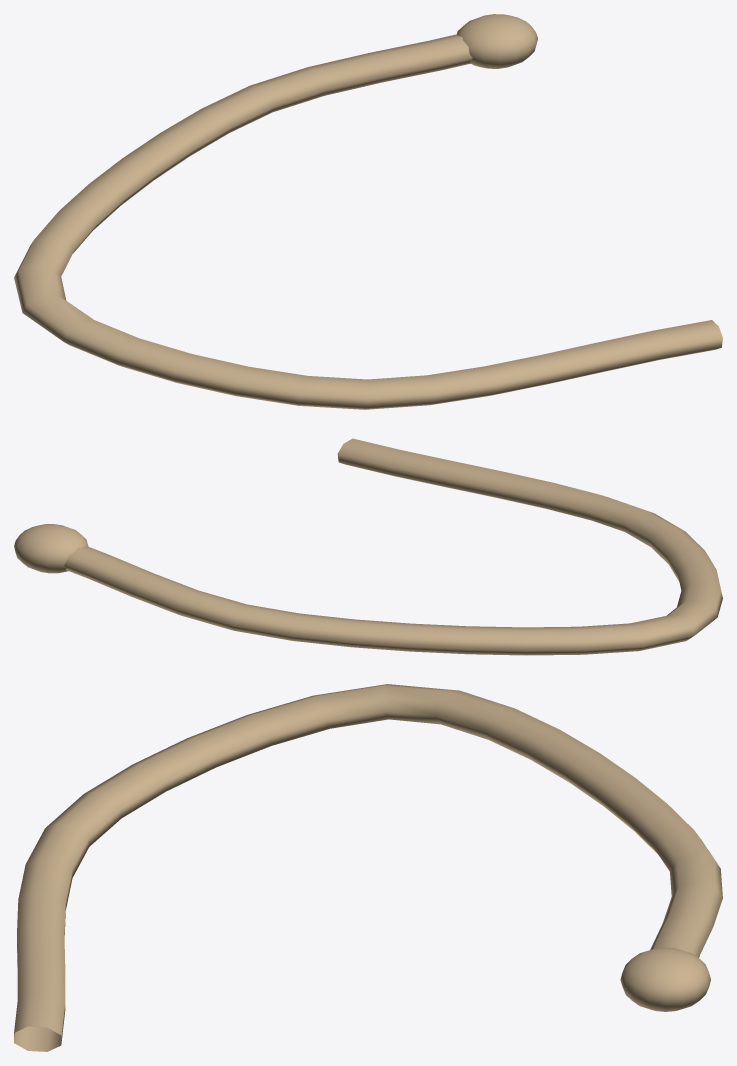
Rendered from right_rib_7.glb.
The picture shows the model from 3 angles, top to bottom: view 1: azimuth 30°, elevation 25°; view 2: azimuth 150°, elevation 25°; view 3: azimuth 270°, elevation 25°; orthographic projection. The views are drawn at different scales.
Parts seen in each view (by area): view 1: right_rib_7:costal-body, right_rib_7:head; view 2: right_rib_7:costal-body, right_rib_7:head; view 3: right_rib_7:costal-body, right_rib_7:head.
Part boxes in pixels (box(x1,y1,x2,y2)): right_rib_7:costal-body: box(14, 34, 722, 409); right_rib_7:head: box(457, 14, 537, 68); right_rib_7:costal-body: box(64, 438, 722, 655); right_rib_7:head: box(14, 524, 88, 573); right_rib_7:costal-body: box(14, 684, 722, 1051); right_rib_7:head: box(620, 947, 710, 1011).
Bounding box in the file's own units: 0.4558 × 0.0774 × 0.387.
